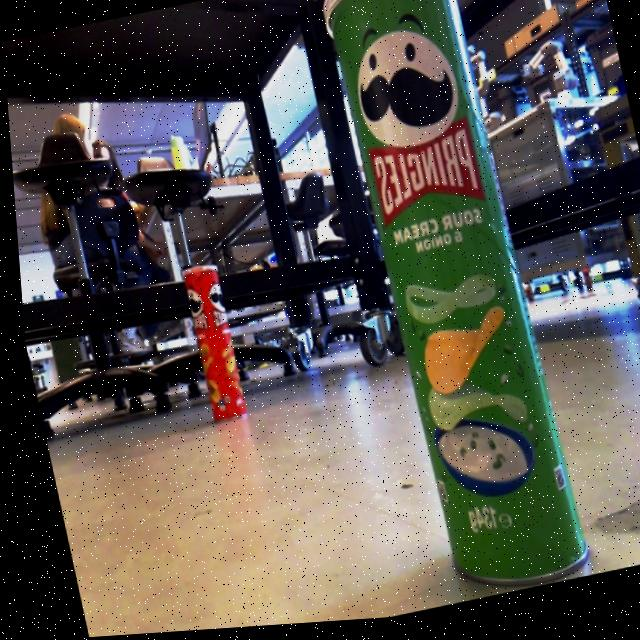greenpringles: (305, 0, 593, 617)
redpringles: (156, 250, 259, 439)
